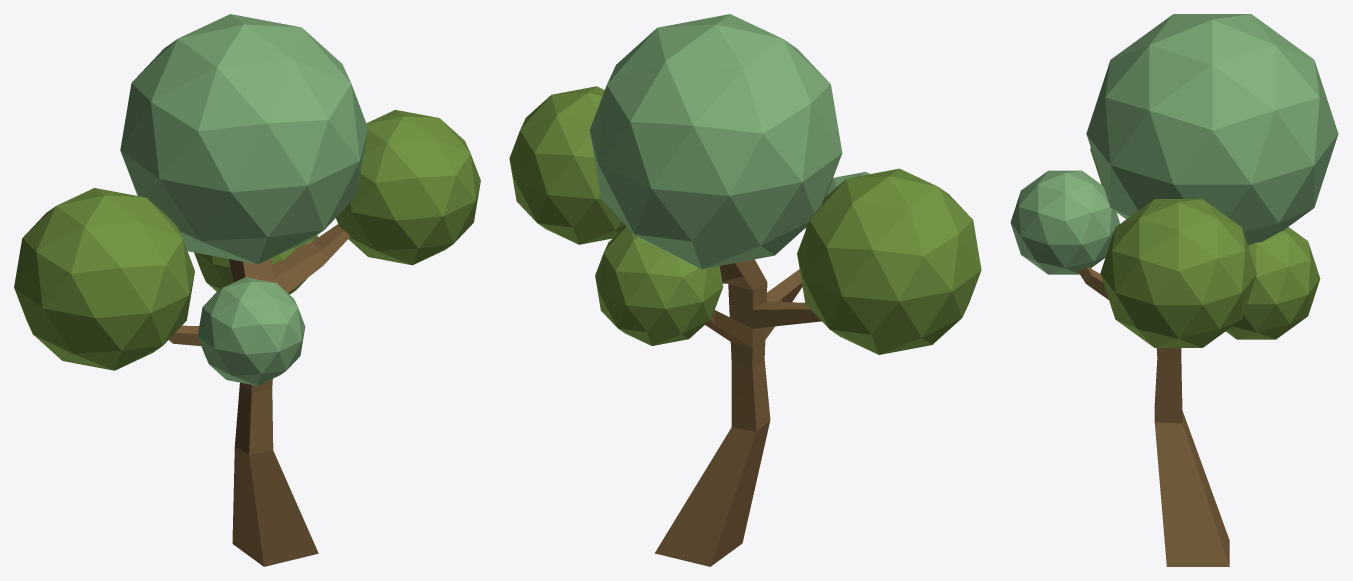
Rendered from tree.gltf.
3 views of the same model, side by side, from view 1: azimuth 30°, elevation 25°; view 2: azimuth 150°, elevation 25°; view 3: azimuth 270°, elevation 25° (orthographic). The views are drawn at different scales.
Parts seen in each view (by area): view 1: Icosphere, Icosphere1, Cube1, Cube, Icosphere2, Icosphere3; view 2: Icosphere, Icosphere1, Cube, Cube1, Icosphere3; view 3: Icosphere, Cube1, Cube, Icosphere2, Icosphere3.
Boxes of the visible parts, x1,y1,x2,y2 form: Icosphere: [120, 14, 367, 264]; Icosphere1: [14, 188, 194, 370]; Cube1: [336, 109, 480, 265]; Cube: [169, 224, 350, 566]; Icosphere2: [197, 277, 305, 385]; Icosphere3: [194, 235, 318, 294]; Icosphere: [589, 14, 842, 269]; Icosphere1: [797, 168, 981, 354]; Cube: [655, 259, 821, 566]; Cube1: [509, 86, 626, 244]; Icosphere3: [595, 226, 722, 345]; Icosphere: [1086, 14, 1338, 245]; Cube1: [1100, 199, 1256, 347]; Cube: [1078, 266, 1229, 566]; Icosphere2: [1010, 170, 1119, 274]; Icosphere3: [1226, 227, 1320, 339].
Size of the model in its own units: 4.1 by 4.69 by 2.67.
